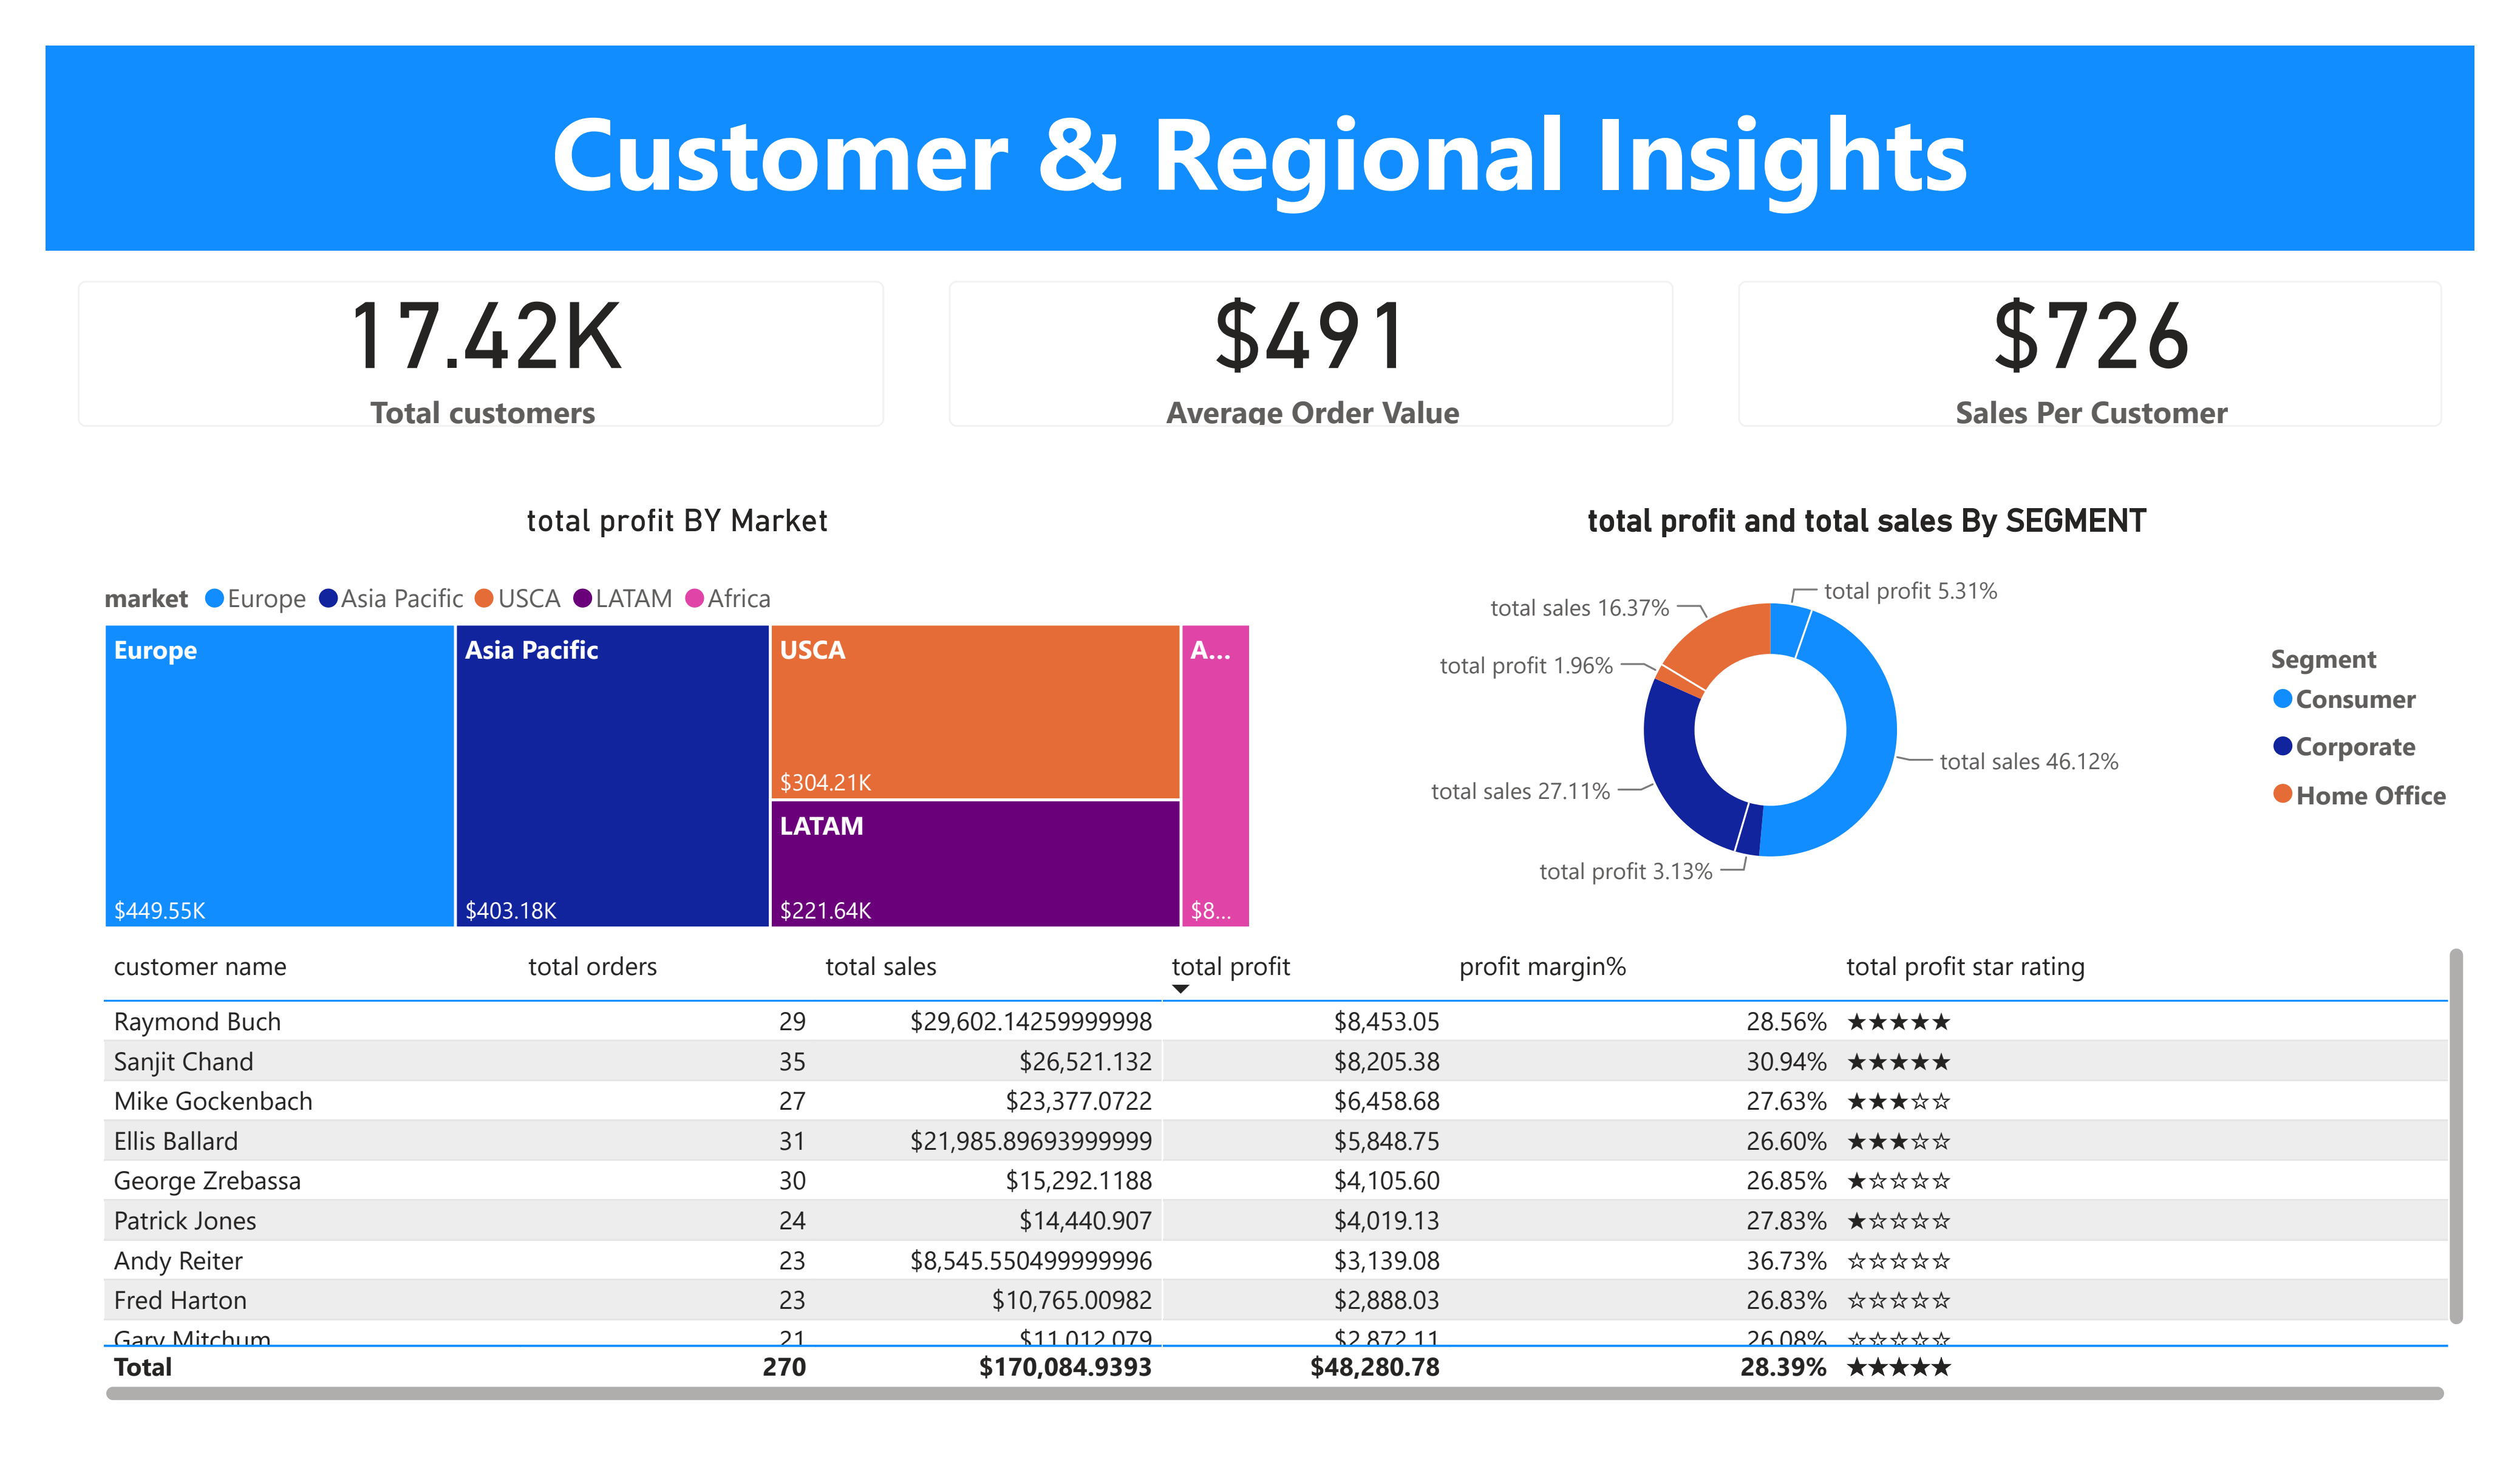

The page's visual inventory and layout, read from the dashboard file:
{"tool":"powerbi","page":{"name":"customers & Geographic Analysis","canvas":[1280,720],"ordinal":2},"visuals":[{"type":"cardVisual","fields":{"Data":["Fact Sales.Total Customers"]},"box":[0,107.1,459.4,110.8],"z":0},{"type":"cardVisual","fields":{"Data":["Fact Sales.Average Order Value"]},"box":[459.4,107.1,415.9,110.8],"z":1000},{"type":"cardVisual","fields":{"Data":["Fact Sales.Sales Per Customor"]},"box":[875.3,107.1,405,110.8],"z":2000},{"type":"treemap","title":"total profit BY Market","fields":{"Group":["Dim Customer.market"],"Values":["Fact Sales.total profit"]},"box":[26,240,614,230],"z":3000},{"type":"donutChart","title":"total profit and total sales By SEGMENT","fields":{"Category":["Dim Customer.Segment"],"Y":["Fact Sales.total profit","Fact Sales.total sales"]},"box":[640,240,640,210],"z":4000},{"type":"tableEx","fields":{"Values":["Dim Customer.customer name","Fact Sales.total orders","Fact Sales.total sales","Fact Sales.total profit","Fact Sales.profit margin%","Fact Sales.total profit star rating"]},"box":[25,470,1255,250],"z":5000},{"type":"textbox","box":[0,0,1280,108],"z":6000}]}

Visuals, with their boxes on the page's 1280x720 design canvas (x1, y1, x2, y2). These are canvas units, not pixel positions in the 2520x1457 screenshot, which may show the page scaled, cropped or inside an application window:
cardVisual - Fact Sales.Total Customers: region(0, 107, 459, 218)
cardVisual - Fact Sales.Average Order Value: region(459, 107, 875, 218)
cardVisual - Fact Sales.Sales Per Customor: region(875, 107, 1280, 218)
"total profit BY Market" treemap: region(26, 240, 640, 470)
"total profit and total sales By SEGMENT" donutChart: region(640, 240, 1280, 450)
tableEx - Dim Customer.customer name x Fact Sales.total orders: region(25, 470, 1280, 720)
textbox: region(0, 0, 1280, 108)
